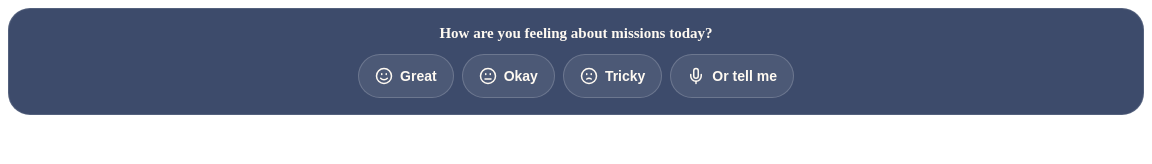
it: TwinCheckIn › responds to a spoken transcript through the same voice plumbing as Lexi
This screenshot has width=1152, height=164.
Click the button "Or tell me" at (732, 76), box 670,54 -> 794,98
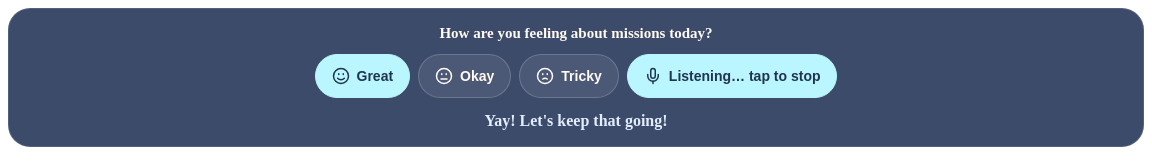
Now the message shows "keep that going", box 484,112 -> 668,129
